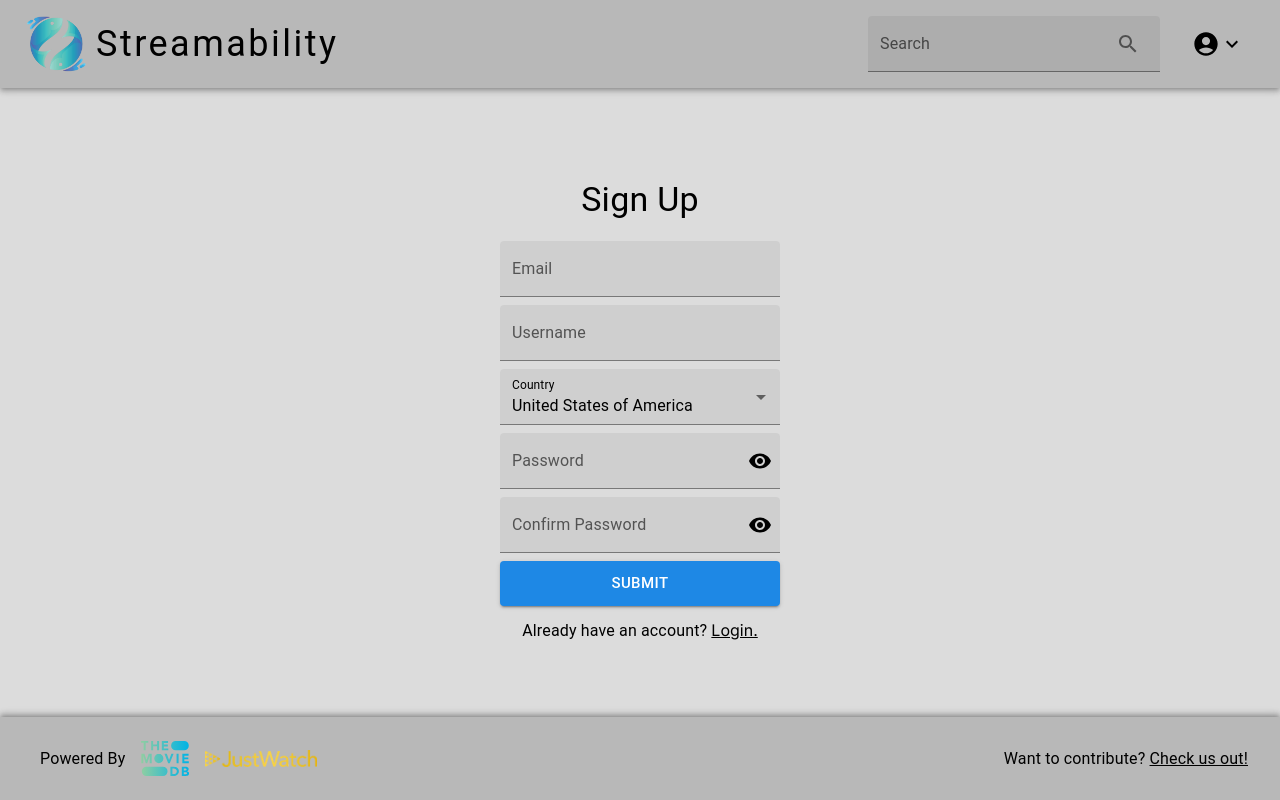
Test: Sign Up Screen › does not allow submission with some empty inputs
This screenshot has width=1280, height=800.
Check: the element with test id "signup-screen" is shown, box [496,88,784,717]
Type "valid@email.com" into the field labelled "Email".
click(640, 269); type("valid@email.com")  # box [500,241,780,297]
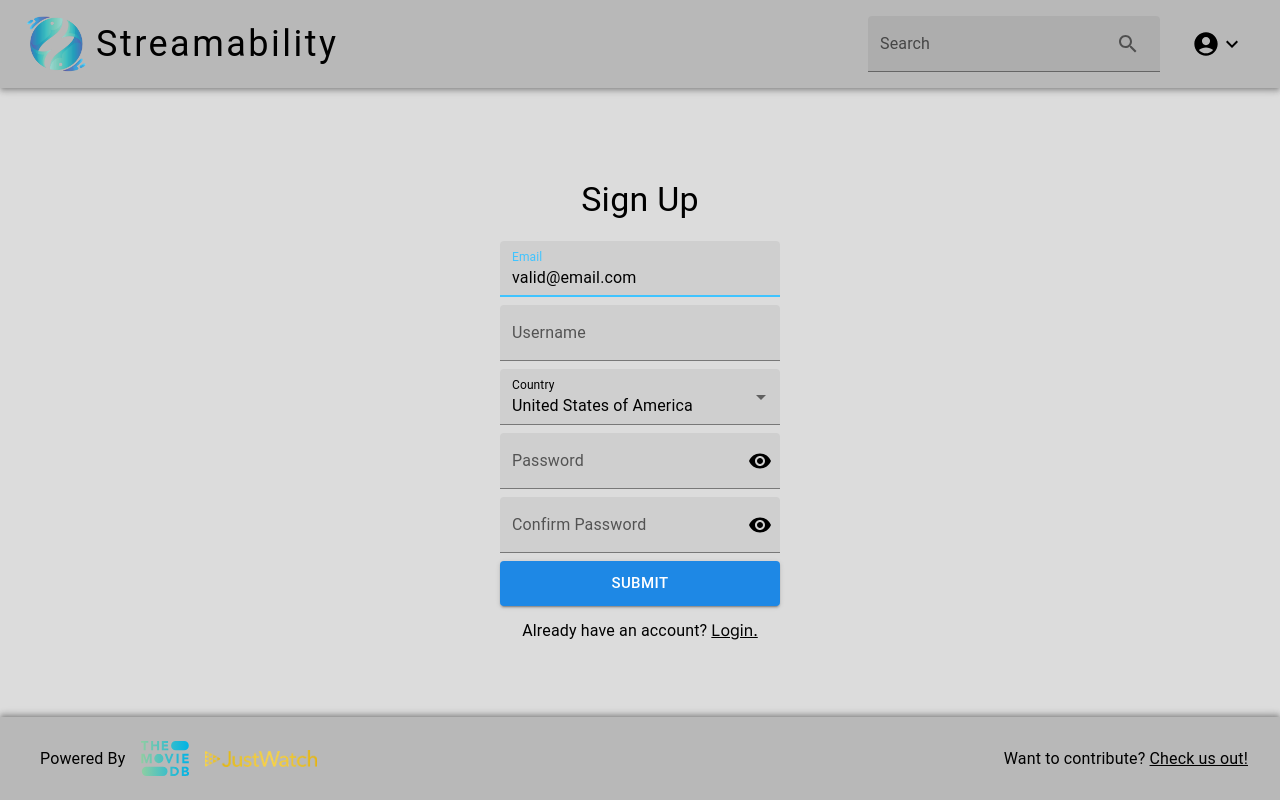
Type "testuser" into the field labelled "Username".
click(640, 333); type("testuser")  # box [500,305,780,361]
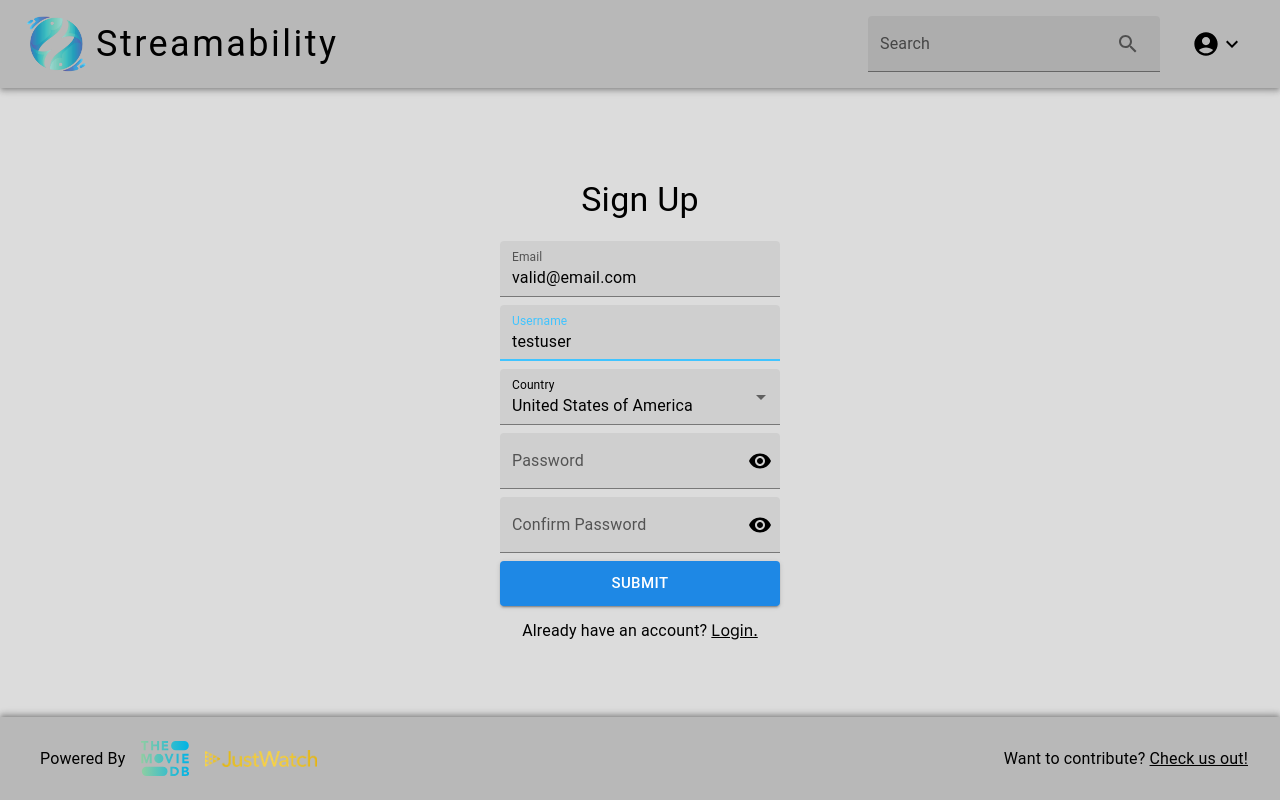
Type "password" into the password field labelled "Password".
click(616, 461); type("password")  # box [500,433,732,489]
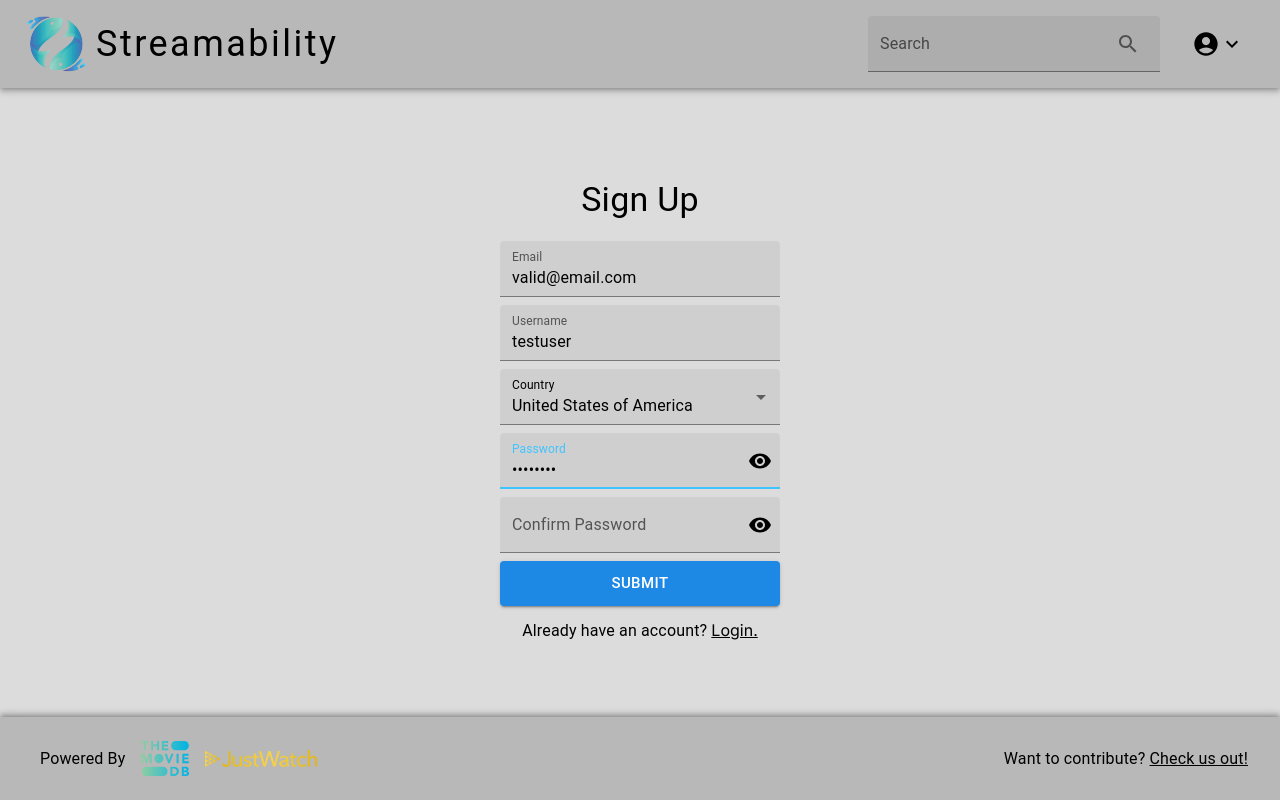
Click the button "Submit".
click(640, 583)  # box [500,561,780,606]
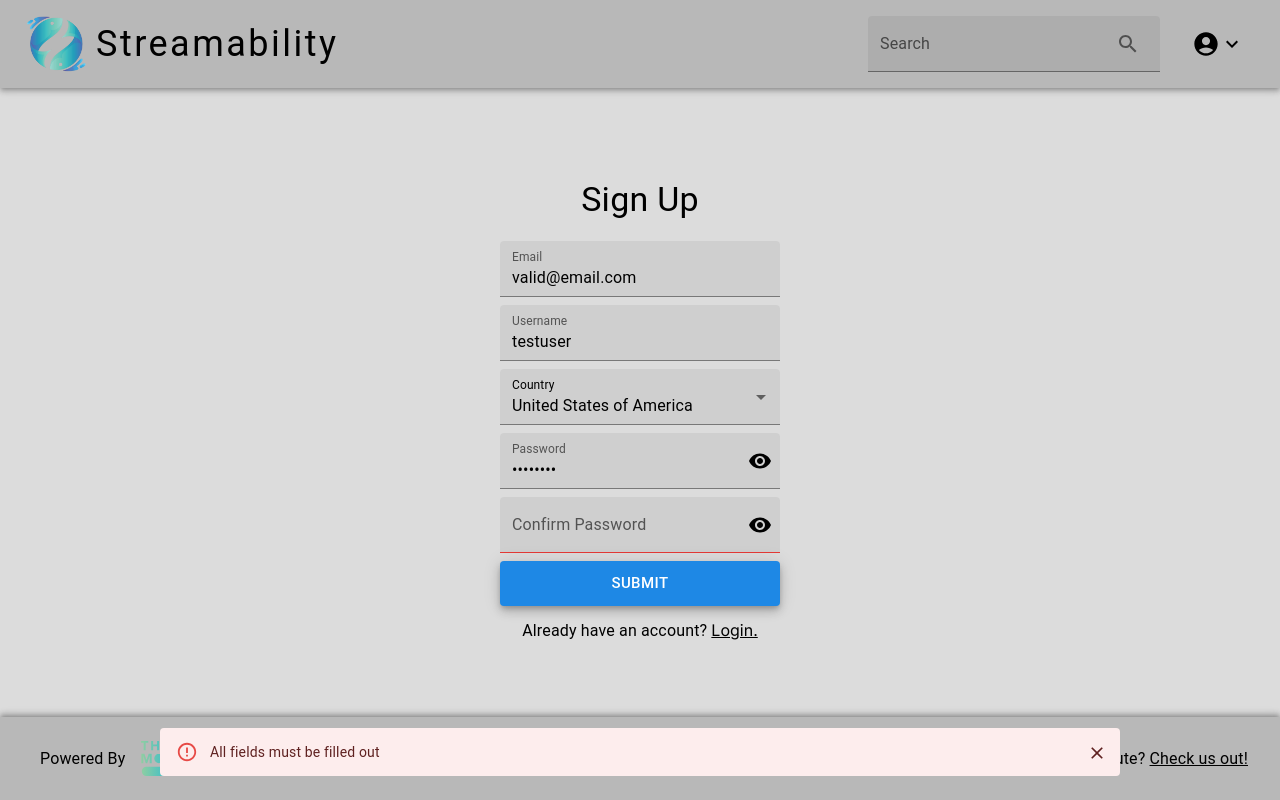
Check: the text "All fields must be filled out" is shown, box [210,744,380,760]
